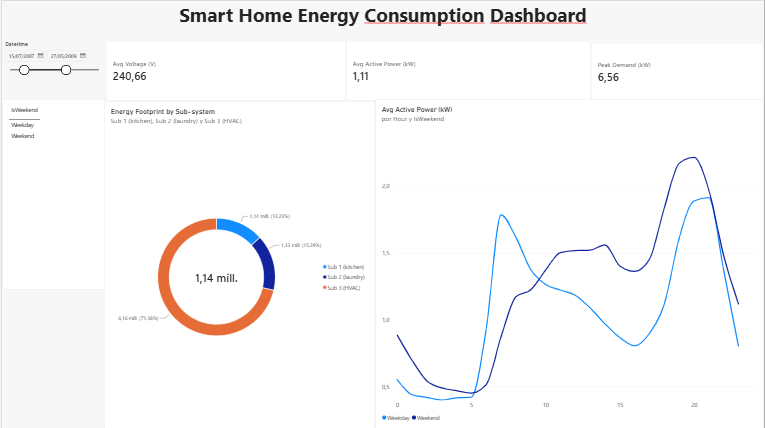

The dashboard page shown, as its layout file describes it:
{"tool":"powerbi","page":{"name":"Página 1","canvas":[1920,1080],"ordinal":0},"visuals":[{"type":"slicer","fields":{"Values":["Hourly Power.Datetime"]},"box":[0,100.8,262,181.4],"z":0},{"type":"tableEx","fields":{"Values":["Hourly Power.IsWeekend"]},"box":[0,246.9,262,481.3],"z":1000},{"type":"cardVisual","fields":{"Data":["Hourly Power.Avg Active Power (kW)"]},"box":[866.8,100.8,617.3,151.2],"z":2000},{"type":"cardVisual","fields":{"Data":["Hourly Power.Peak Demand (kW)"]},"box":[1484.1,105.8,435.9,146.1],"z":3000},{"type":"cardVisual","fields":{"Data":["Hourly Power.Avg Voltage (V)"]},"box":[262,100.8,604.7,151.2],"z":4000},{"type":"lineChart","fields":{"Category":["Hourly Power.Hour"],"Series":["Hourly Power.IsWeekend"],"Y":["Hourly Power.Avg Active Power (kW)"]},"box":[939.8,246.9,980.2,834],"z":4001},{"type":"donutChart","title":"Energy Footprint by Sub-system","fields":{"Y":["Sum(Hourly Power.Sub_metering_1)","Sum(Hourly Power.Sub_metering_2)","Sum(Hourly Power.Sub_metering_3)"]},"box":[257,252,682.8,829],"z":4002},{"type":"textbox","box":[0,0,1920,100.8],"z":4003}]}

Visuals, with their boxes in screenshot pixels (x1, y1, x2, y2), scaled from the page's 1920x1080 canvas onto the 765x428 screenshot:
slicer - Hourly Power.Datetime: BBox(0, 40, 104, 112)
tableEx - Hourly Power.IsWeekend: BBox(0, 98, 104, 289)
cardVisual - Hourly Power.Avg Active Power (kW): BBox(345, 40, 591, 100)
cardVisual - Hourly Power.Peak Demand (kW): BBox(591, 42, 764, 100)
cardVisual - Hourly Power.Avg Voltage (V): BBox(104, 40, 345, 100)
lineChart - Hourly Power.Hour x Hourly Power.IsWeekend: BBox(374, 98, 764, 427)
"Energy Footprint by Sub-system" donutChart: BBox(102, 100, 374, 427)
textbox: BBox(0, 0, 764, 40)
